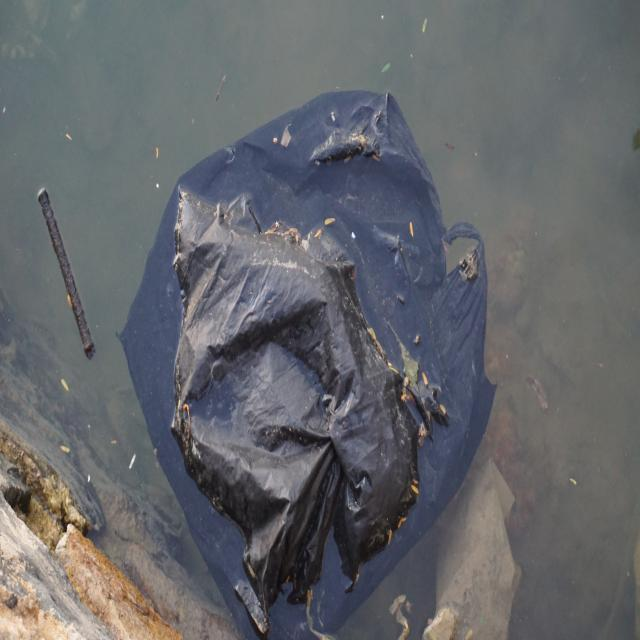Kantong Plastik: (123, 81, 503, 630)
